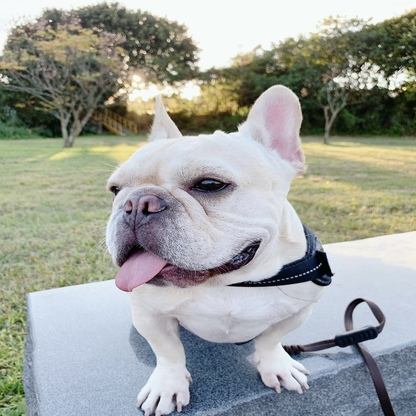bulldog: (100, 81, 335, 416)
